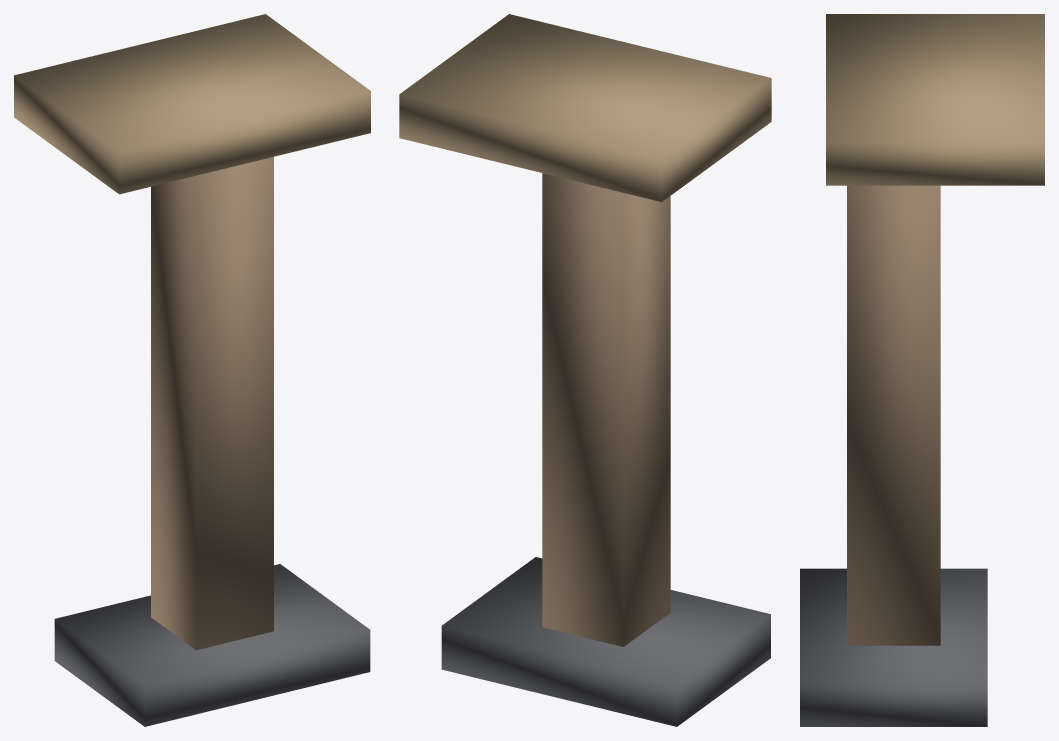
File: lectern__tall.glb
3 renders of one model, left to right at view 1: azimuth 30°, elevation 25°; view 2: azimuth 150°, elevation 25°; view 3: azimuth 270°, elevation 25°, orthographic. The views are drawn at different scales.
Visible parts, largest first — view 1: world; view 2: world; view 3: world.
Boxes of the visible parts, bbox=[...] form: world: bbox=[14, 14, 370, 726]; world: bbox=[399, 14, 771, 726]; world: bbox=[800, 14, 1044, 726].
Bounding box in the file's own units: 0.58 × 1.25 × 0.47.
